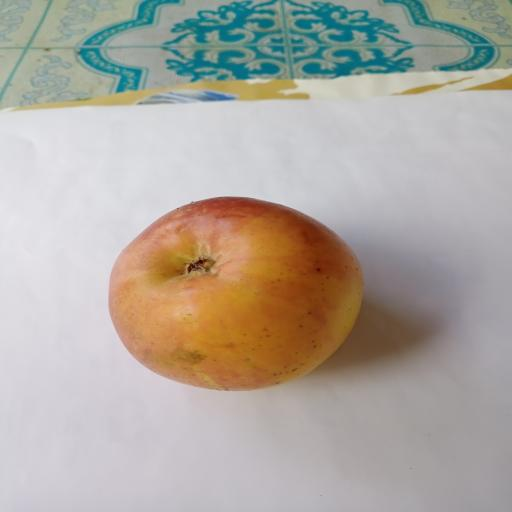apple-ripe: (95, 189, 376, 410)
